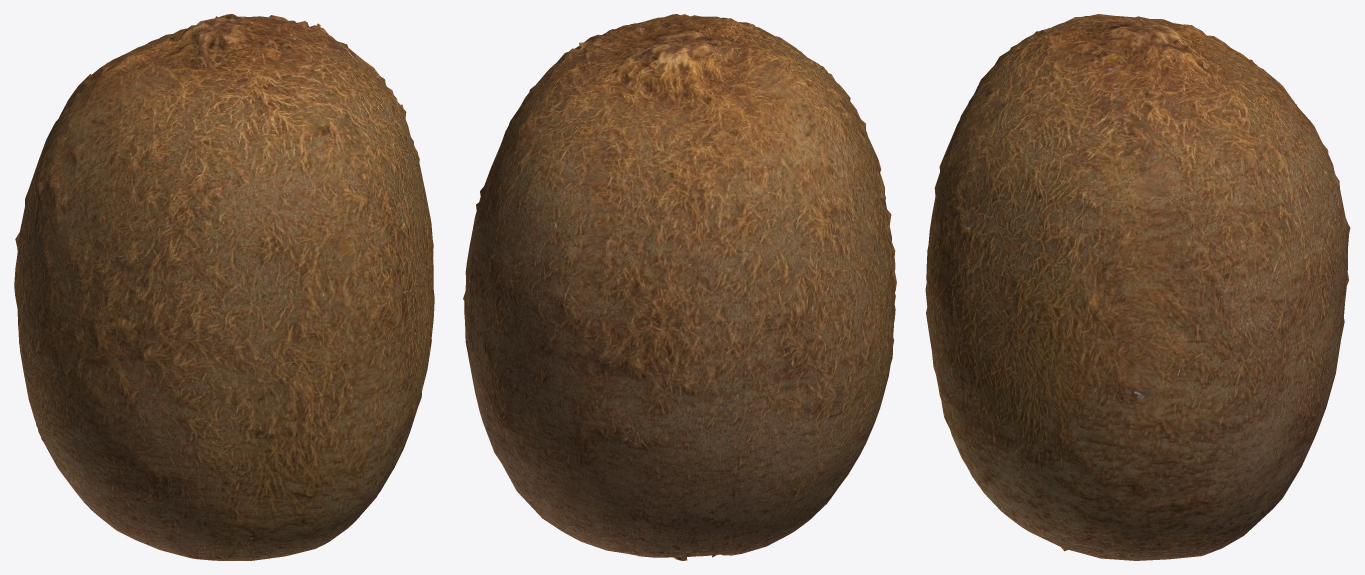
File: food_kiwi_01.glb
The picture shows the model from 3 angles, left to right: view 1: azimuth 30°, elevation 25°; view 2: azimuth 150°, elevation 25°; view 3: azimuth 270°, elevation 25°; orthographic projection.
Visible parts, largest first — view 1: food_kiwi_01; view 2: food_kiwi_01; view 3: food_kiwi_01.
Boxes of the visible parts, x1,y1,x2,y2 form: food_kiwi_01: (14, 14, 434, 560); food_kiwi_01: (463, 14, 896, 560); food_kiwi_01: (925, 14, 1350, 560).
Size of the model in its own units: 0.0695 by 0.0903 by 0.0686.
Materials: 1 (1 with a texture image).
